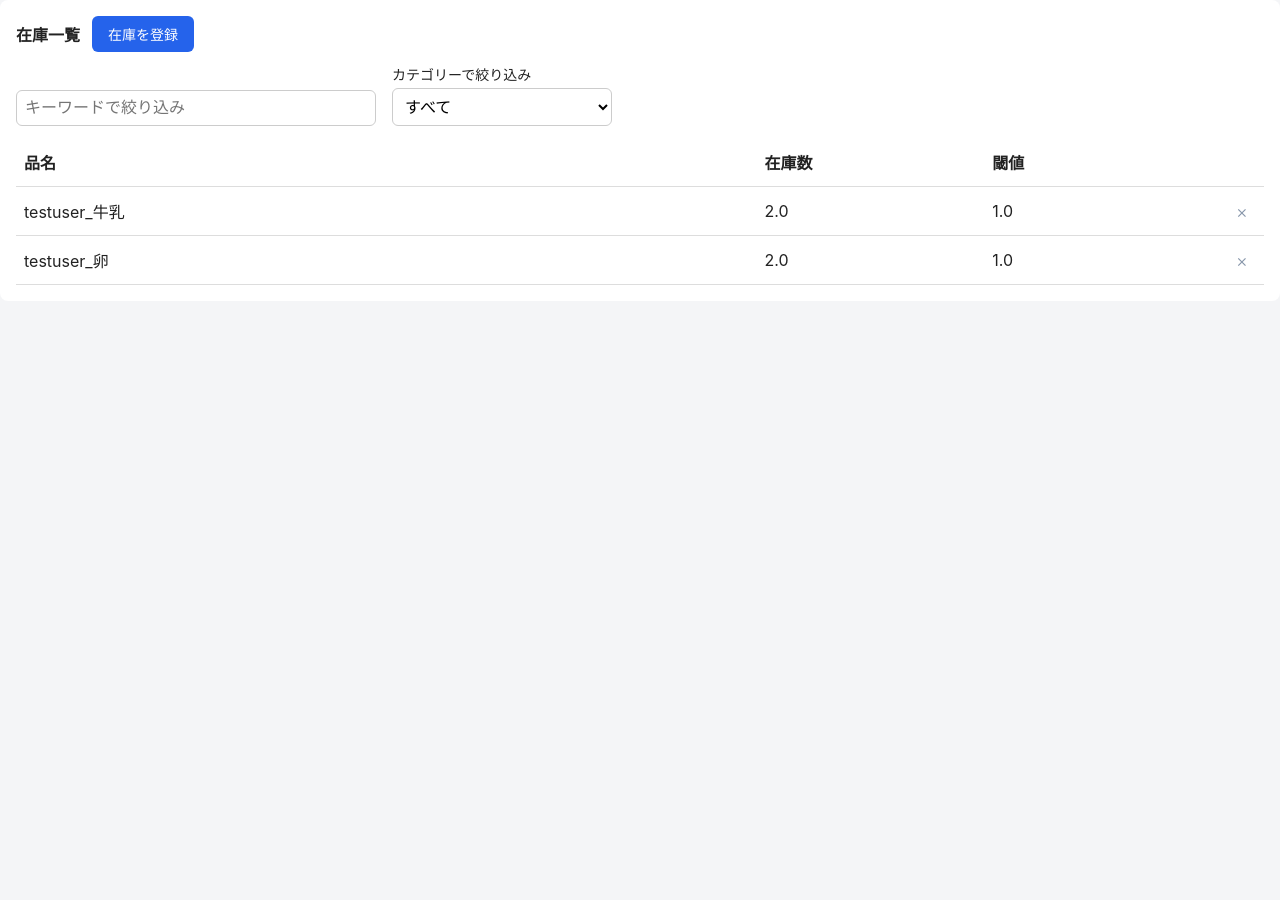
Test: 在庫の削除(×ボタンと確認ダイアログ) › 各行の右端に×ボタンがあり、押しても詳細モーダルは開かず確認ダイアログが開く
What coordinates should you click on to do the following:
click the button named "testuser_牛乳を削除"
I would click on:
 (1242, 212)
Its box is [1220,187,1264,236].
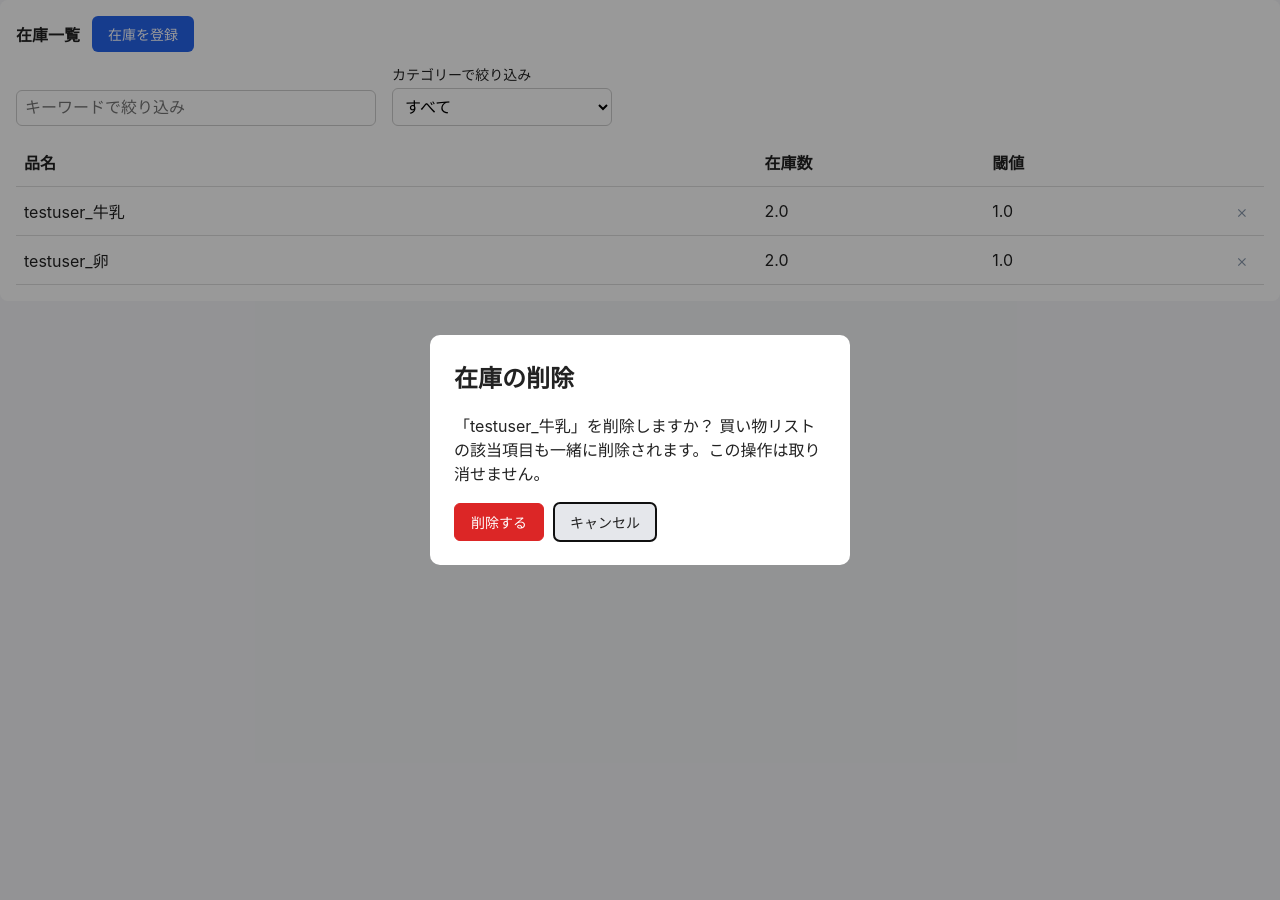
Result: the text "「testuser_牛乳」を削除しますか？ 買い物リストの該当項目も一緒に削除されます。この操作は取り消せません。" is shown at [454,414,826,486]
